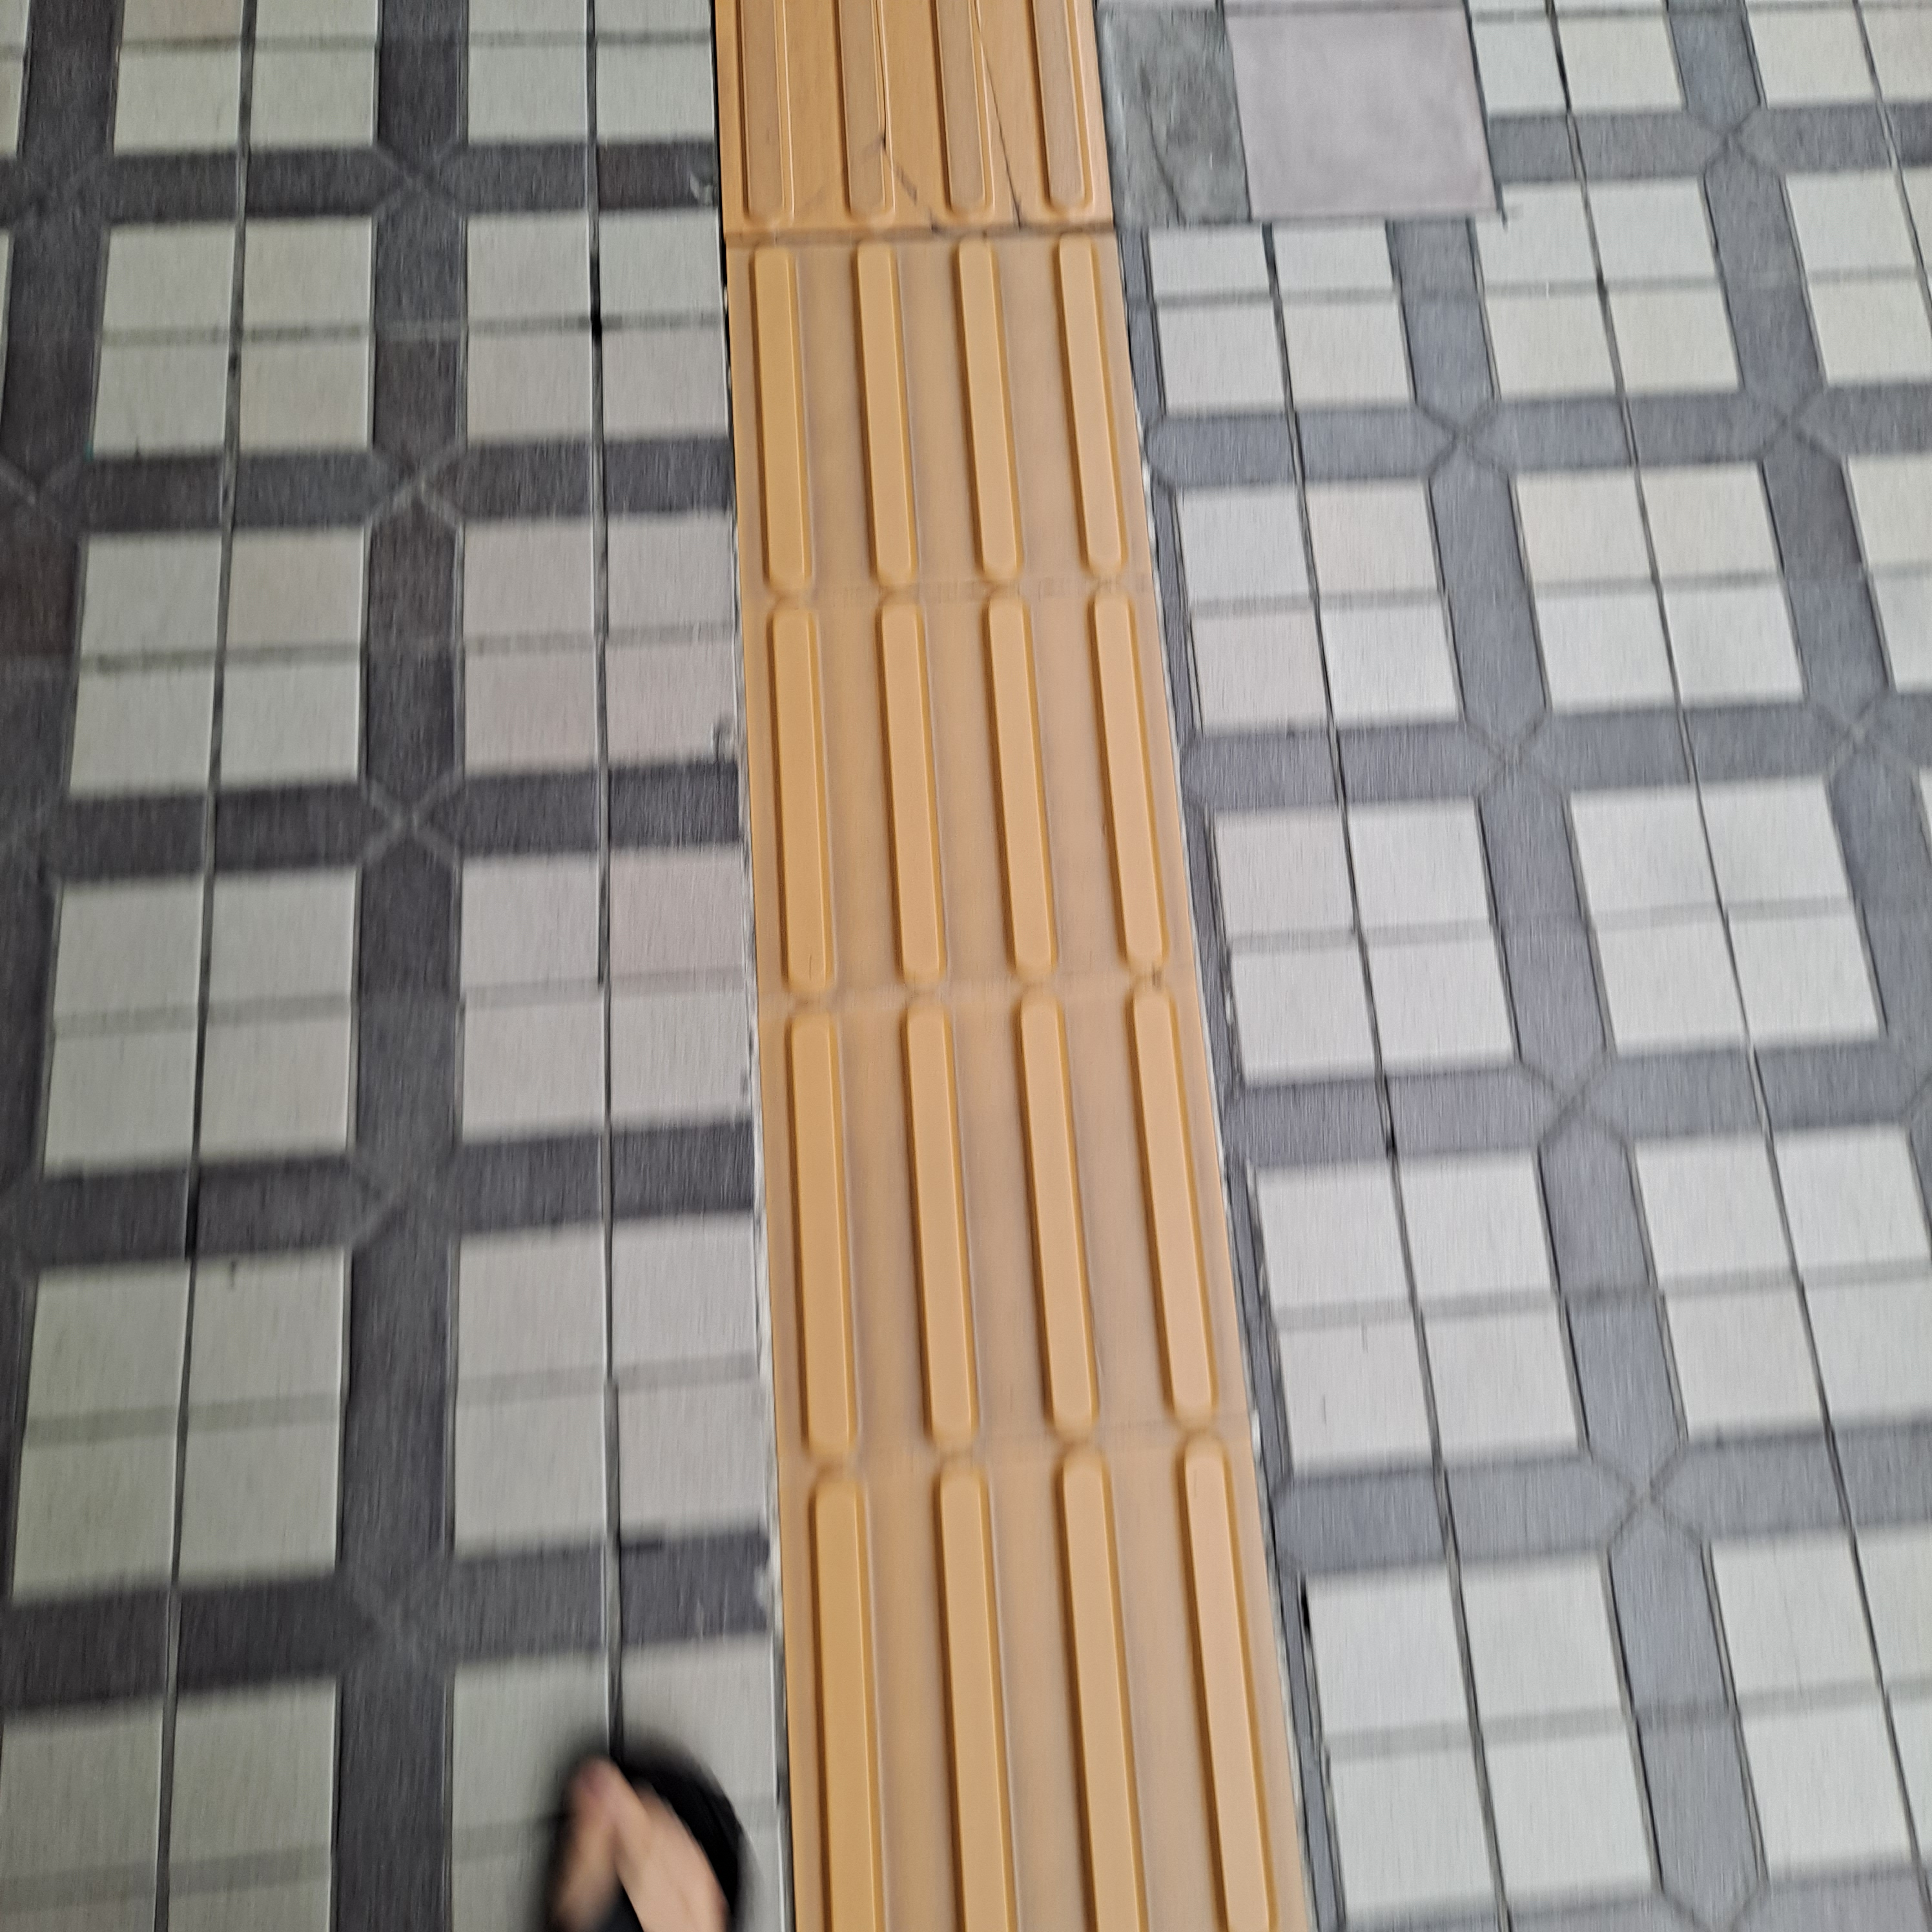guideBlock: (837, 1465, 1293, 1932), (763, 586, 1191, 993), (803, 1008, 1219, 1415), (743, 255, 1145, 625), (725, 16, 1120, 267)
